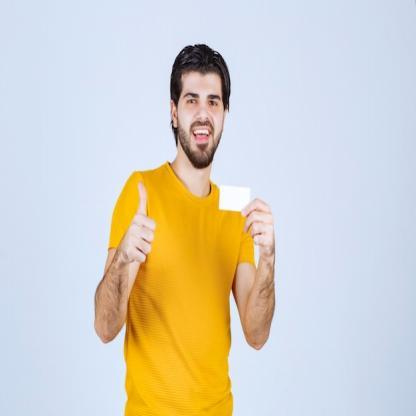thumb_up: (123, 178, 158, 266)
